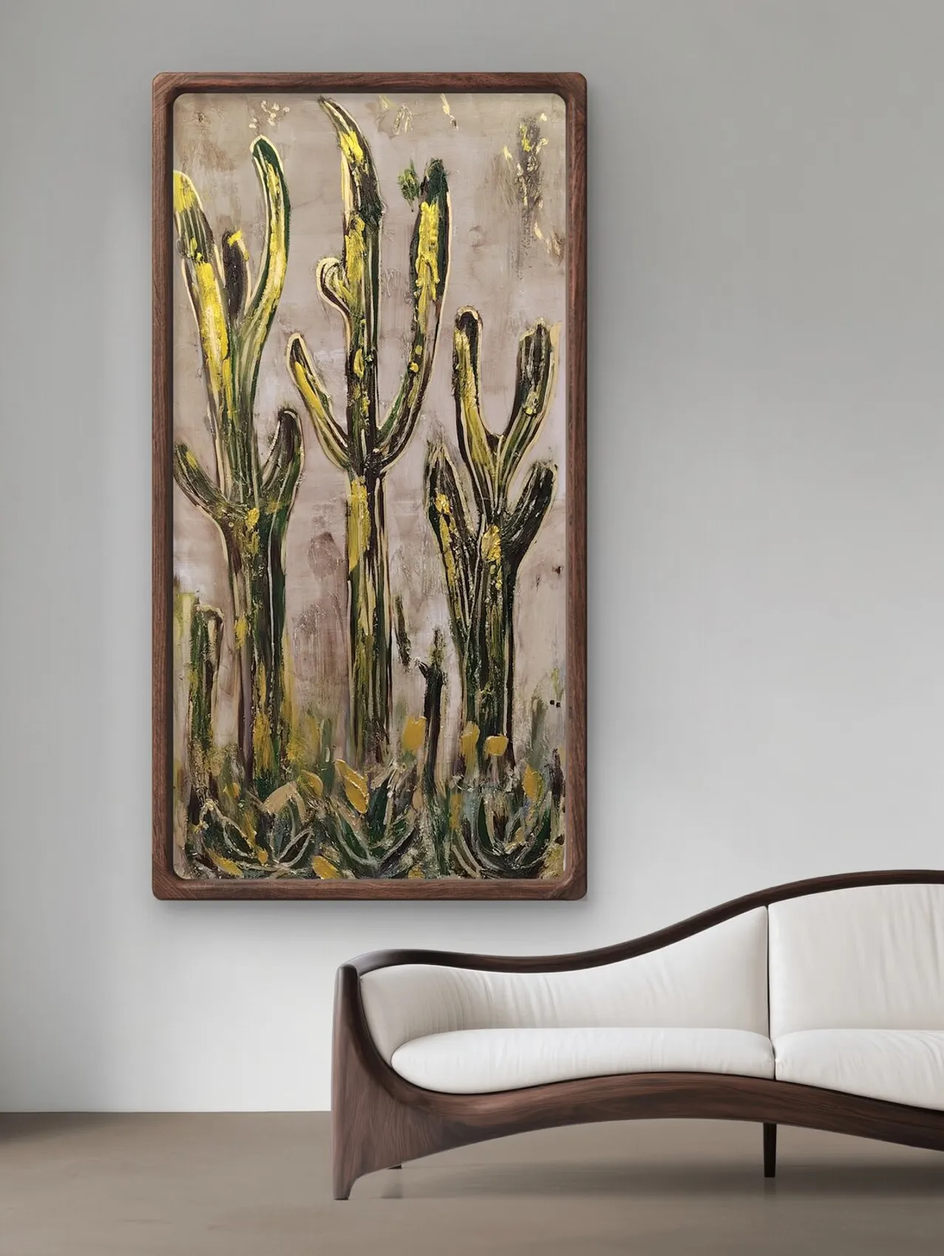painting: (149, 71, 591, 902)
